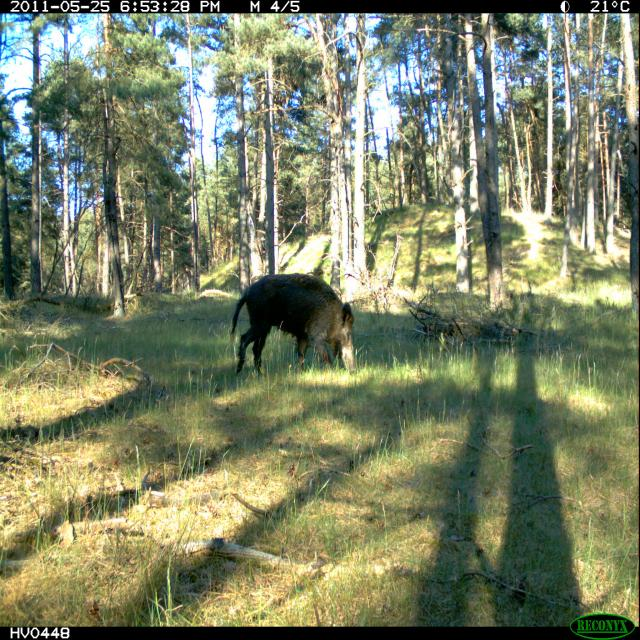boar: (214, 258, 354, 392)
